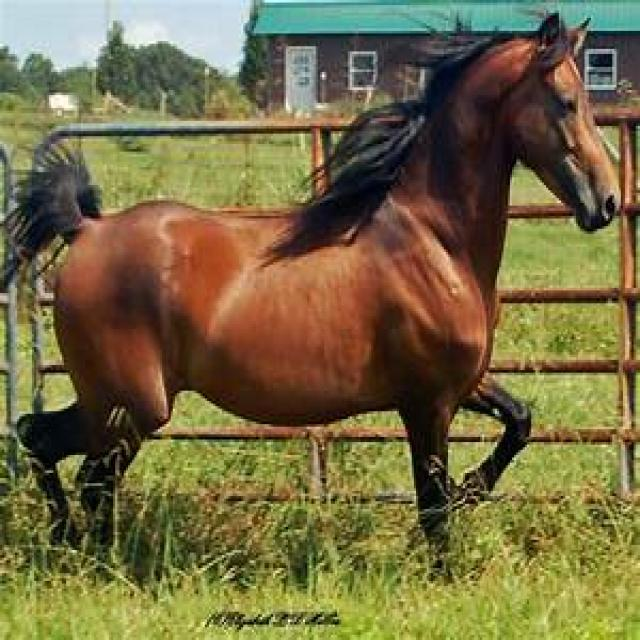horse: (9, 17, 618, 561)
